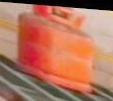cylinder: (0, 1, 113, 101)
